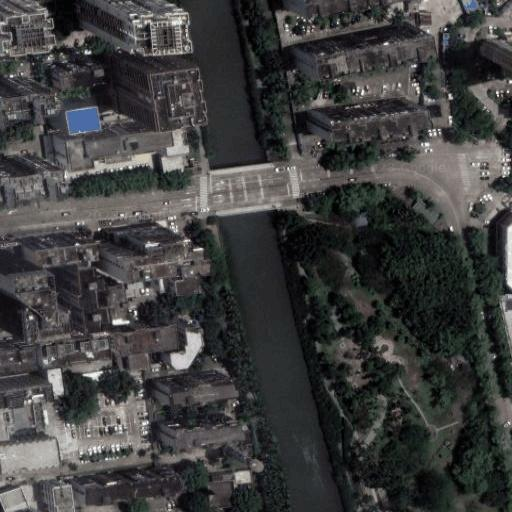building: (313, 32, 436, 82), (51, 119, 159, 167), (44, 247, 98, 331), (93, 222, 179, 269), (107, 43, 161, 113), (329, 109, 430, 146), (113, 50, 169, 113), (70, 467, 168, 499), (22, 327, 93, 360), (96, 317, 162, 348), (157, 411, 228, 439), (148, 369, 218, 395), (12, 227, 76, 254), (78, 0, 141, 27), (0, 435, 46, 471), (0, 150, 44, 184), (168, 326, 202, 370), (495, 210, 512, 289), (46, 57, 98, 82), (173, 255, 197, 295), (205, 479, 237, 508), (45, 94, 78, 121), (0, 75, 25, 107), (152, 117, 176, 147), (0, 270, 16, 313), (44, 368, 65, 399), (159, 143, 180, 173), (50, 485, 72, 512), (83, 369, 113, 383), (129, 351, 150, 370), (233, 470, 251, 488), (0, 30, 11, 57), (209, 473, 233, 482), (104, 229, 119, 243), (501, 296, 512, 310)
